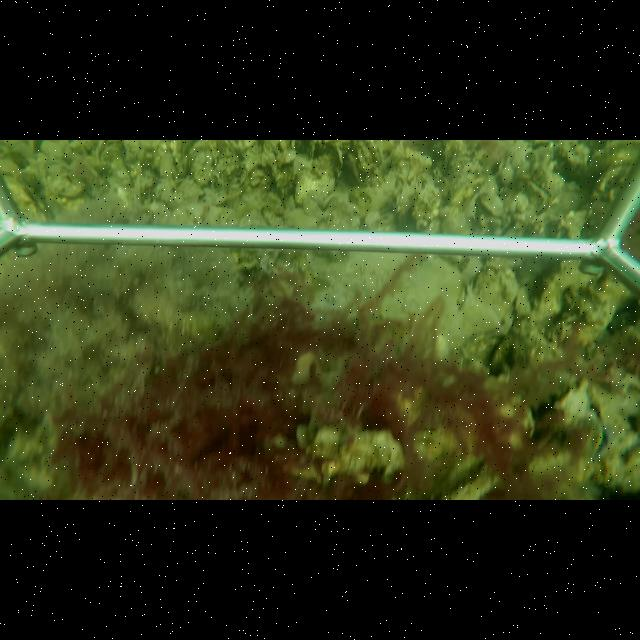Oyster-Closed: (454, 268, 520, 334), (294, 145, 343, 206)
